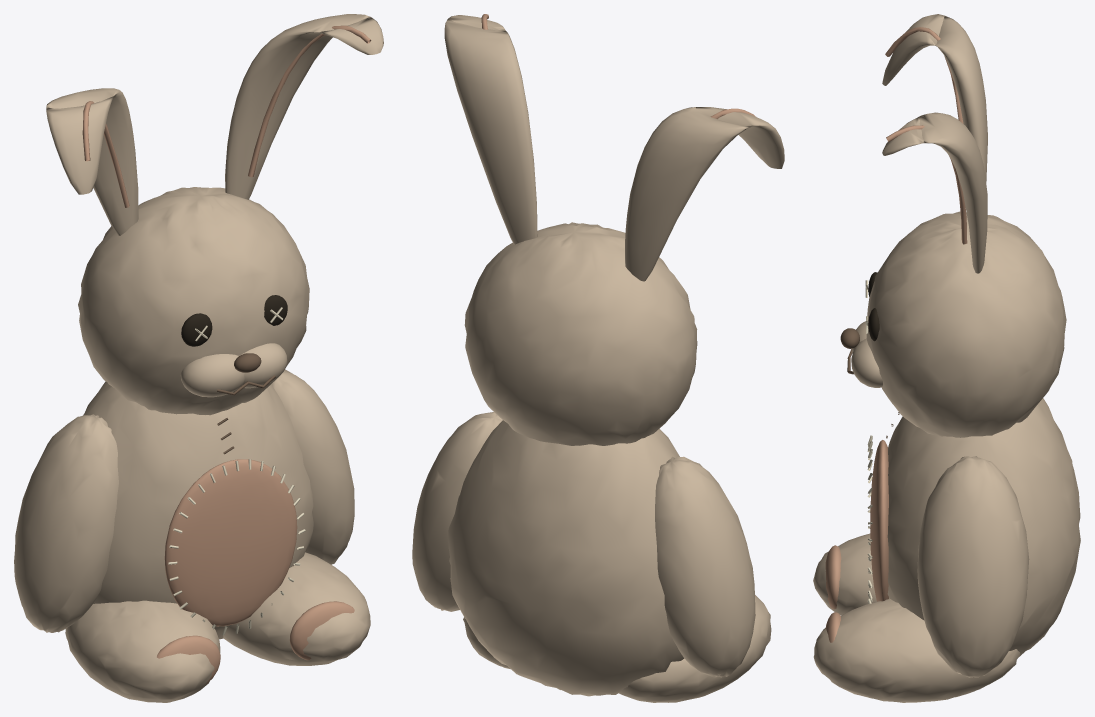
The model's file is celebration-rabbit.glb.
3 renders of one model, left to right at view 1: azimuth 30°, elevation 25°; view 2: azimuth 150°, elevation 25°; view 3: azimuth 270°, elevation 25°, orthographic. The views are drawn at different scales.
Visible parts, largest first — view 1: HeadRigCloth, CelebrationRabbitCloth, ArmLCloth, LegLCloth, LegRCloth, ArmRCloth; view 2: HeadRigCloth, ArmLCloth, ArmRCloth, LegLCloth; view 3: HeadRigCloth, ArmRCloth, LegRCloth, LegLCloth, CelebrationRabbitCloth.
Boxes of the visible parts, box(x1,y1,x2,y2) form: HeadRigCloth: box(46, 14, 383, 639); CelebrationRabbitCloth: box(164, 418, 305, 635); ArmLCloth: box(14, 414, 118, 632); LegLCloth: box(65, 600, 220, 702); LegRCloth: box(223, 552, 370, 665); ArmRCloth: box(271, 369, 354, 564); HeadRigCloth: box(444, 14, 784, 696); ArmLCloth: box(655, 456, 755, 677); ArmRCloth: box(412, 412, 502, 611); LegLCloth: box(618, 595, 771, 702); HeadRigCloth: box(840, 14, 1080, 656); ArmRCloth: box(917, 456, 1029, 677); LegRCloth: box(813, 599, 1020, 702); LegLCloth: box(813, 533, 876, 615); CelebrationRabbitCloth: box(867, 412, 899, 603).
Size of the model in its own units: 0.7882 by 1.42 by 0.5774.
